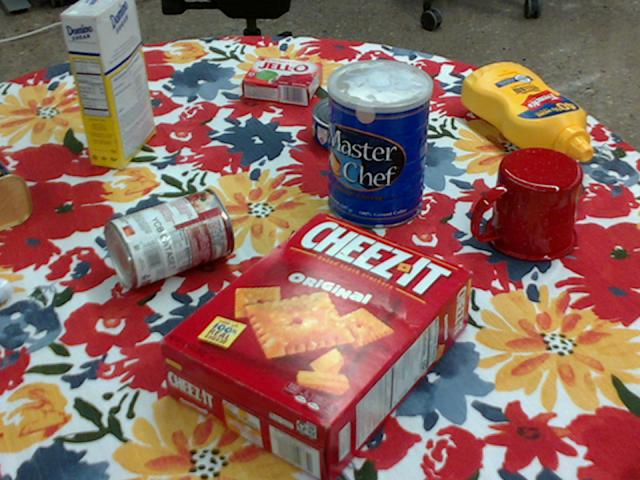cracker_box: (156, 214, 470, 479)
gelatin_box: (239, 58, 321, 107)
large_marker: (0, 277, 13, 302)
master_chef_can: (327, 60, 433, 230)
mug: (472, 148, 582, 262)
mustard_bottle: (460, 61, 591, 161)
potted_meat_can: (0, 160, 31, 229)
sugar_box: (61, 0, 155, 167)
tomato_soup_can: (102, 188, 232, 289)
tuna_fish_can: (311, 95, 384, 153)
